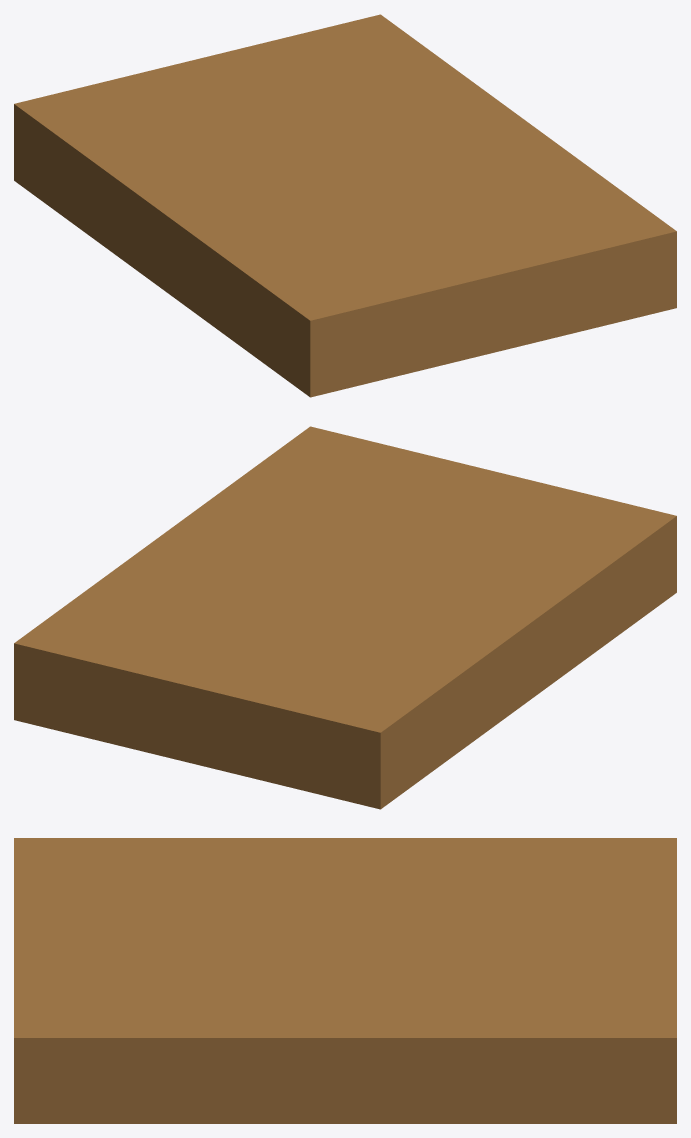
Rendered from tome_tribal.dae.
3 views of the same model, one above another, from view 1: azimuth 30°, elevation 25°; view 2: azimuth 150°, elevation 25°; view 3: azimuth 270°, elevation 25° (orthographic). The views are drawn at different scales.
Visible parts, largest first — view 1: Cube; view 2: Cube; view 3: Cube.
Boxes of the visible parts, x1,y1,x2,y2 form: Cube: (14, 14, 676, 397); Cube: (14, 426, 676, 809); Cube: (14, 838, 676, 1123).
Bounding box in the file's own units: 20 × 28 × 4.
